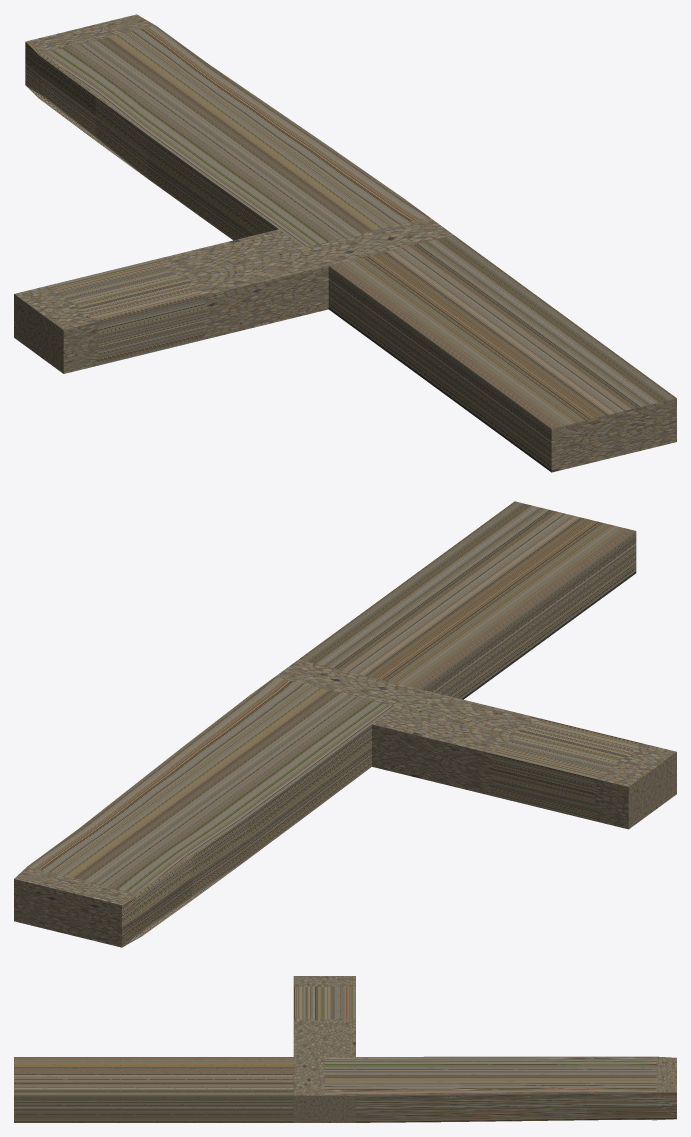
Rendered from CrossRoad.fbx.
3 renders of one model, top to bottom at view 1: azimuth 30°, elevation 25°; view 2: azimuth 150°, elevation 25°; view 3: azimuth 270°, elevation 25°, orthographic. The views are drawn at different scales.
Visible parts, largest first — view 1: Box001; view 2: Box001; view 3: Box001.
Boxes of the visible parts, x1,y1,x2,y2 form: Box001: [14, 14, 676, 472]; Box001: [14, 501, 676, 947]; Box001: [14, 976, 676, 1122].
Size of the model in its own units: 266 by 28.53 by 624.
Materials: 1 (1 with a texture image).
